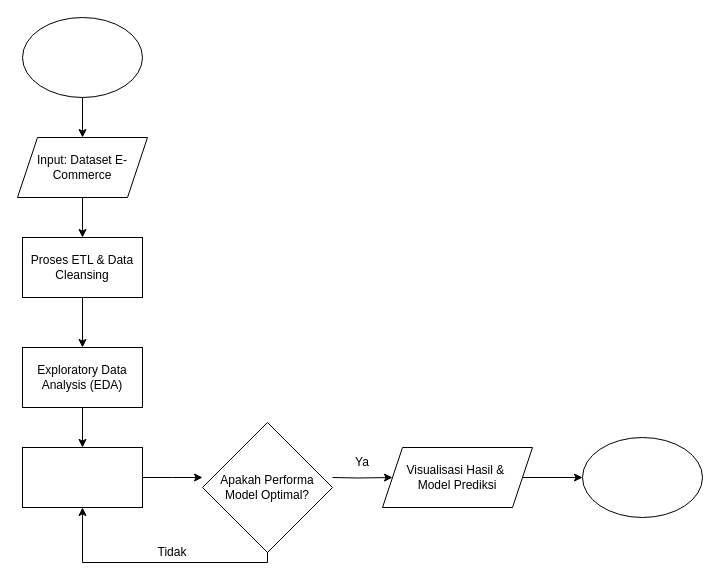
Image size: 720x588. Some labels were removed from this diagram. The box of each missing label's shape, as (x1, y1, x2, y2) in pixels:
Mulai: (22, 16, 142, 98)
Pelatihan Model Machine Learning: (22, 446, 142, 508)
Selesai: (582, 436, 702, 518)
